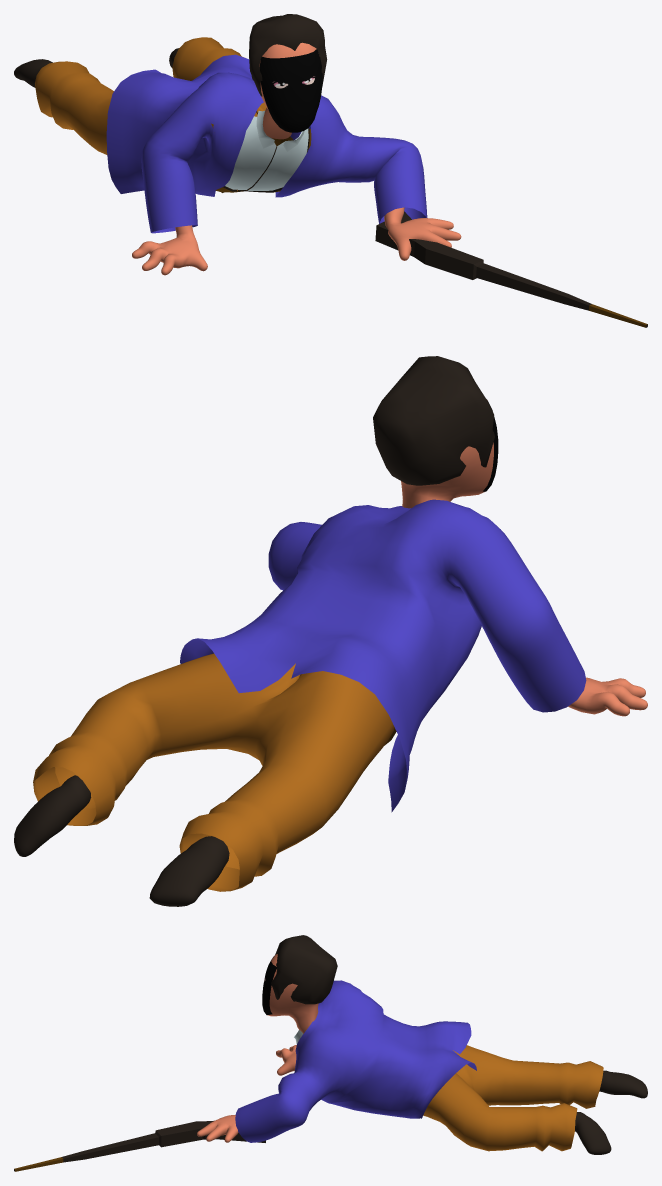
Rendered from abaroa after vortex bin.fbx.
3 renders of one model, top to bottom at view 1: azimuth 30°, elevation 25°; view 2: azimuth 150°, elevation 25°; view 3: azimuth 270°, elevation 25°, orthographic. The views are drawn at different scales.
Parts seen in each view (by area): view 1: Plane.004; view 2: Plane.004; view 3: Plane.004.
Part boxes in pixels (x1=…): Plane.004: x1=14, y1=14, x2=647, y2=327; Plane.004: x1=14, y1=356, x2=647, y2=906; Plane.004: x1=14, y1=935, x2=647, y2=1171.
Size of the model in its own units: 164 by 115 by 365.
